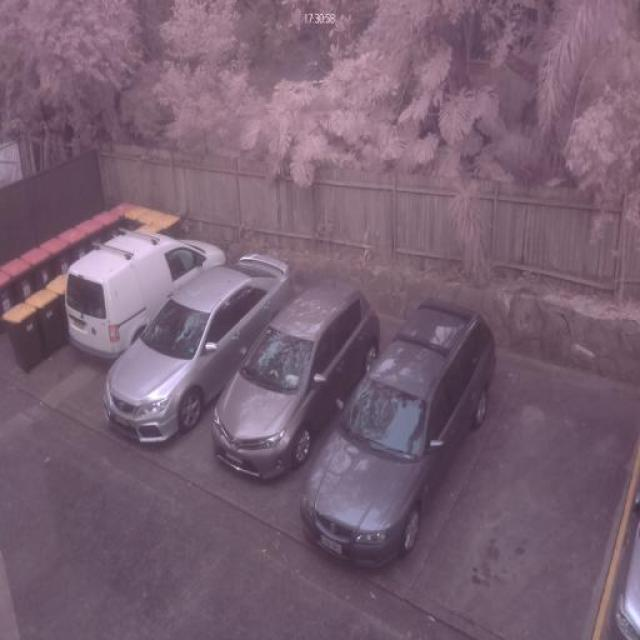Legalparking: (19, 214, 526, 596)
